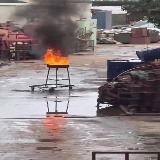fire: (43, 49, 69, 65)
